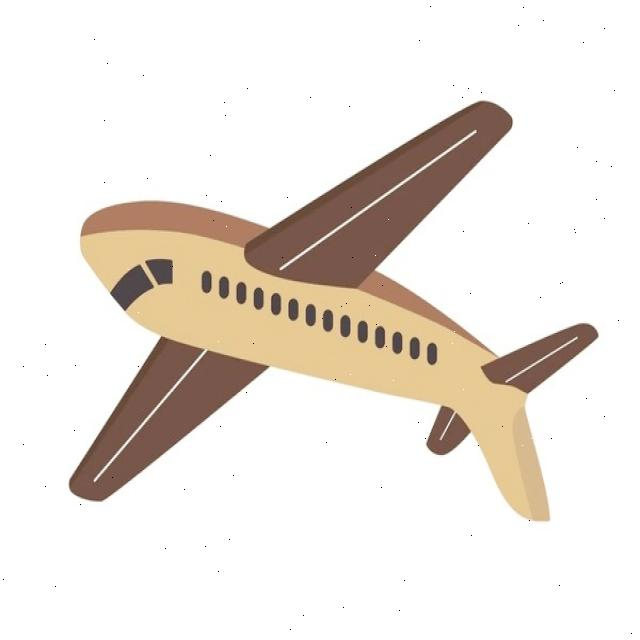aircraft: (20, 50, 610, 532)
